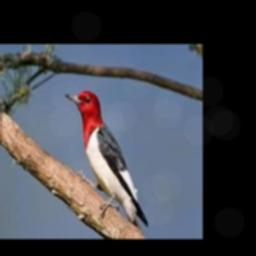Woodpecker: (65, 90, 149, 233)
